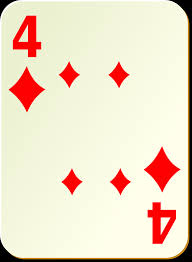four of diamonds: (3, 6, 184, 253)
